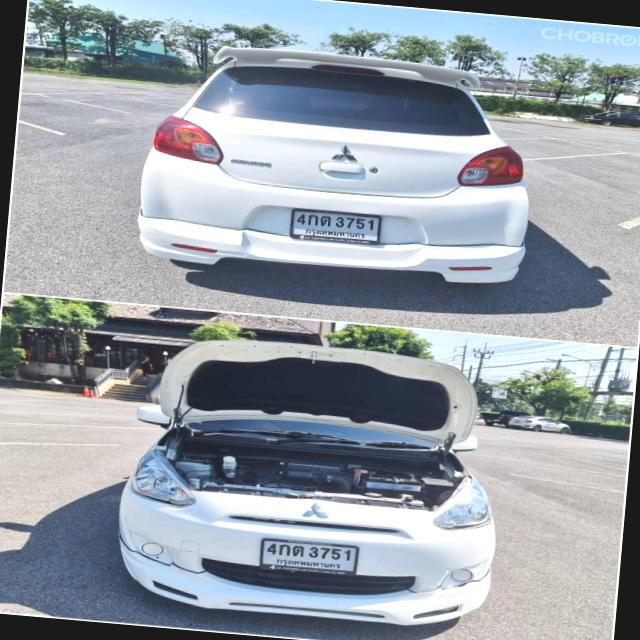license_plate: (258, 534, 364, 580), (286, 204, 384, 246)
